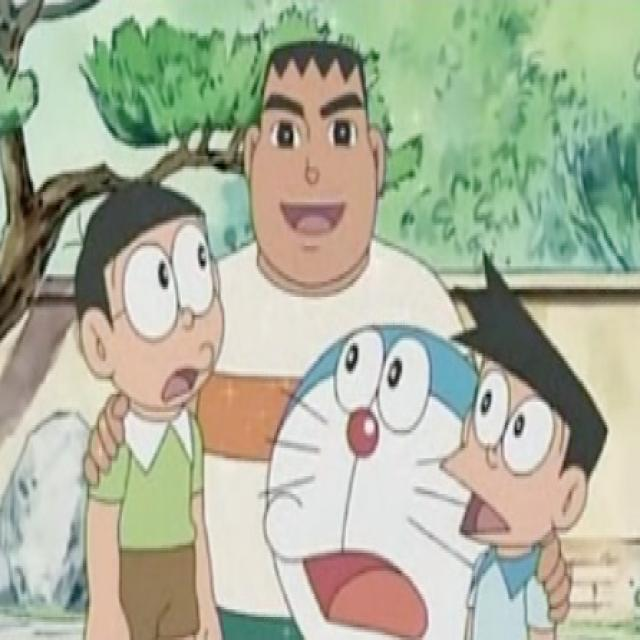doraemon: (264, 315, 484, 637)
jaian: (238, 33, 386, 294)
nobita: (72, 174, 225, 438)
suneo: (445, 248, 618, 566)
